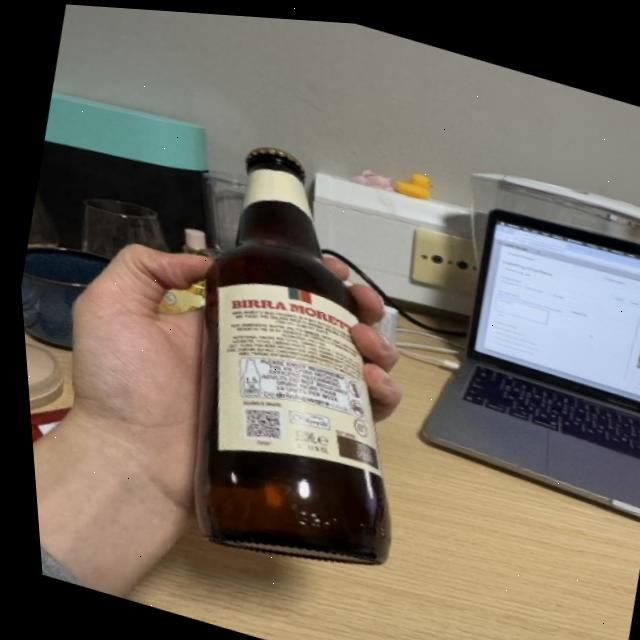beer: (120, 119, 465, 587)
